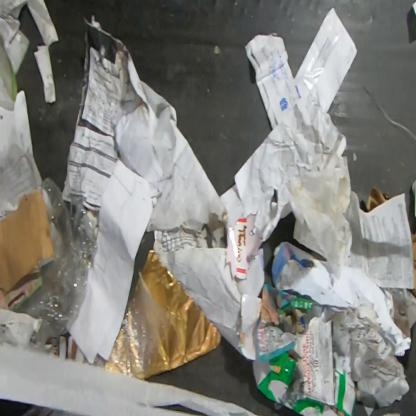cardboard: (251, 350, 359, 415), (0, 190, 55, 293), (362, 184, 392, 212)
soft_plastic: (20, 176, 100, 352), (132, 248, 224, 378), (103, 296, 159, 382)
